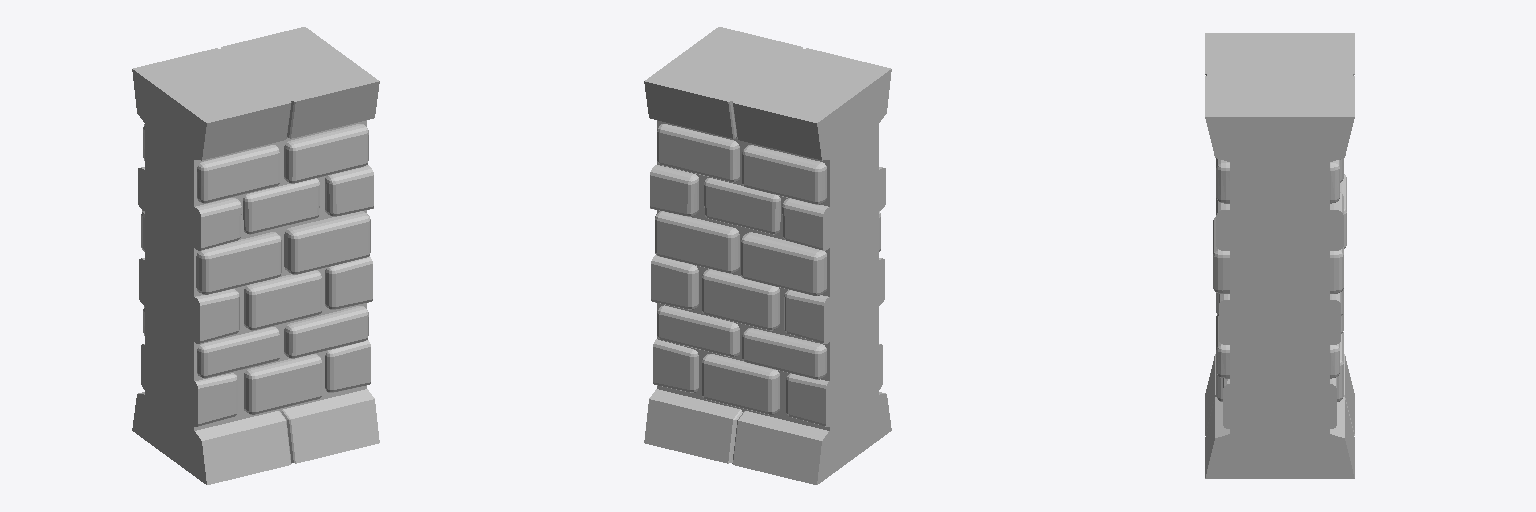
File: wall_half_tile.obj
3 renders of one model, left to right at view 1: azimuth 30°, elevation 25°; view 2: azimuth 150°, elevation 25°; view 3: azimuth 270°, elevation 25°, orthographic.
Visible parts, largest first — view 1: wall:Mesh; view 2: wall:Mesh; view 3: wall:Mesh.
Boxes of the visible parts, box(x1,y1,x2,y2) form: wall:Mesh: box(132, 27, 379, 484); wall:Mesh: box(644, 27, 891, 484); wall:Mesh: box(1205, 33, 1354, 478).
Bounding box in the file's own units: 2 × 4 × 1.5.